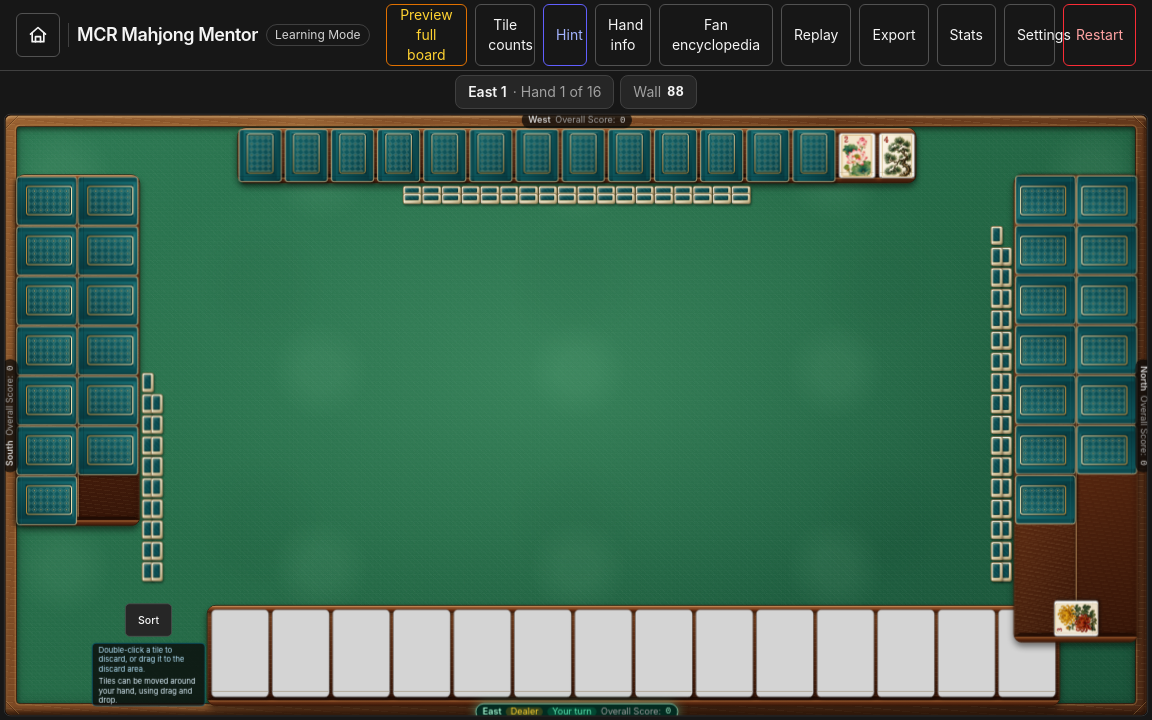
App › opens and closes the Strategy Coach hint panel, on the Best move tab by default
Expected: the tab "8-point route" is not shown
Click the button "Hint": click(565, 35) left=543, top=4, right=587, bottom=66
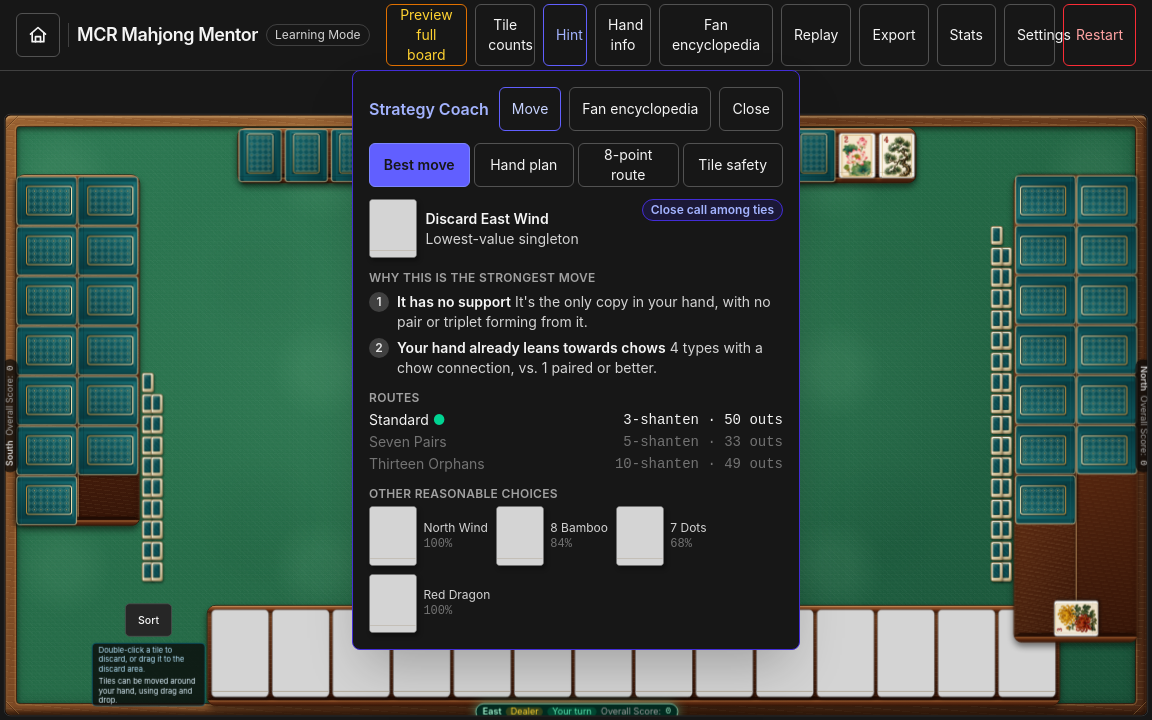
Expected: the dialog with test id "hint-panel" is shown, left=352, top=70, right=800, bottom=650
Click the button "Close": click(751, 109) left=719, top=87, right=783, bottom=131
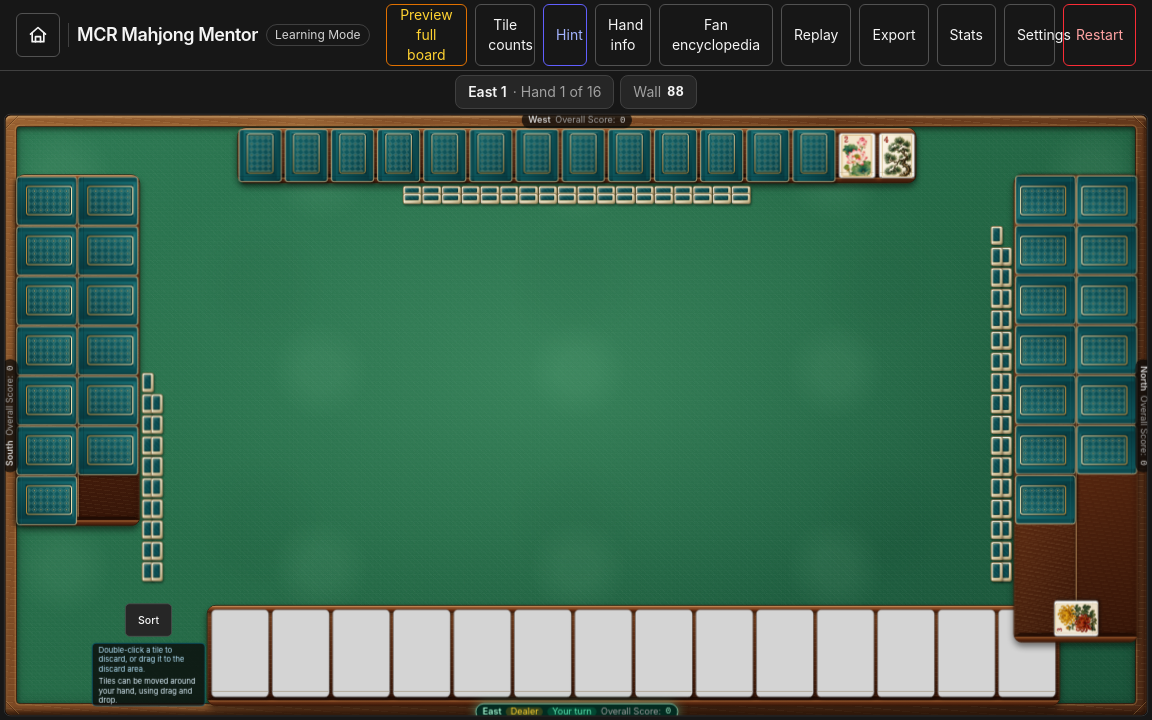
Expected: the dialog with test id "hint-panel" is gone
